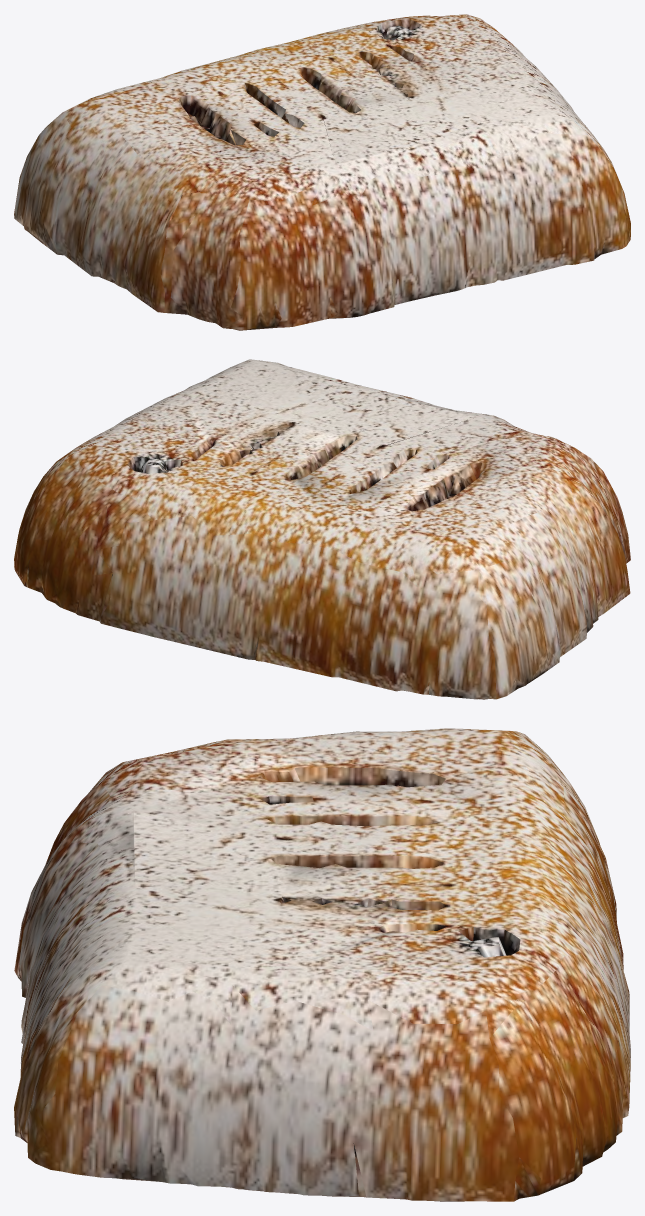
File: prop_nutella_croissant.glb
3 views of the same model, one above another, from view 1: azimuth 30°, elevation 25°; view 2: azimuth 150°, elevation 25°; view 3: azimuth 270°, elevation 25° (orthographic). The views are drawn at different scales.
Visible parts, largest first — view 1: Pastry; view 2: Pastry; view 3: Pastry.
Boxes of the visible parts, <box> form: Pastry: <box>14,14,630,330</box>; Pastry: <box>14,359,630,699</box>; Pastry: <box>14,728,630,1201</box>.
Size of the model in its own units: 0.1339 by 0.0341 by 0.1009.
1 material, 1 textured.
